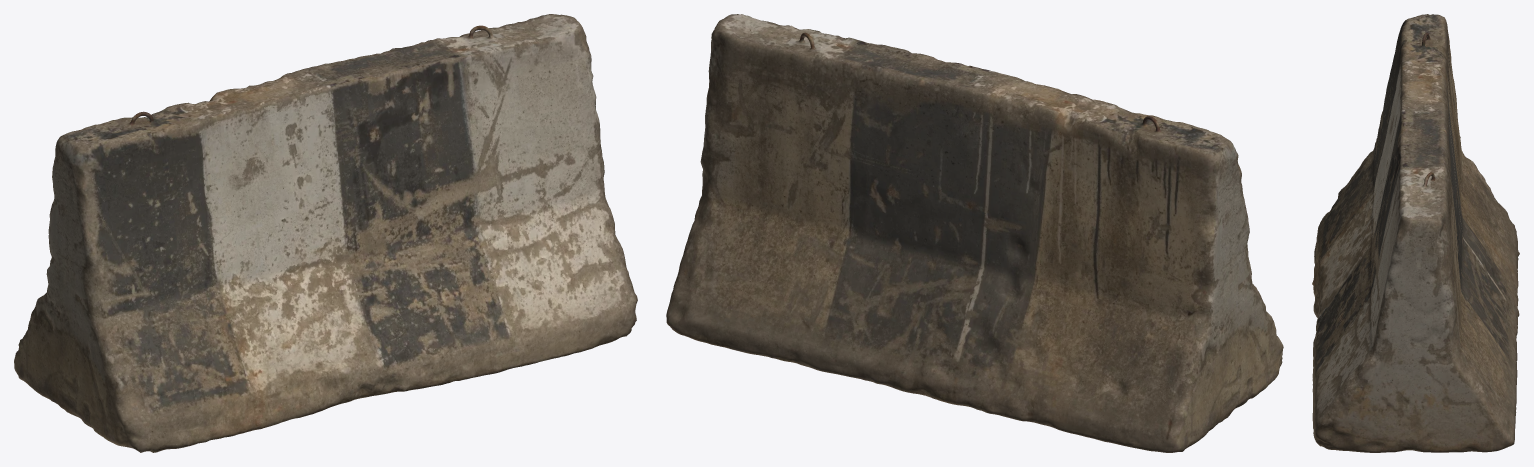
The model's file is concrete_road_barrier.glb.
The picture shows the model from 3 angles, left to right: view 1: azimuth 30°, elevation 25°; view 2: azimuth 150°, elevation 25°; view 3: azimuth 270°, elevation 25°; orthographic projection. The views are drawn at different scales.
Visible parts, largest first — view 1: concrete_road_barrier; view 2: concrete_road_barrier; view 3: concrete_road_barrier.
Part boxes in pixels (x1,y1,x2,y2): concrete_road_barrier: [14, 14, 637, 452]; concrete_road_barrier: [666, 14, 1283, 452]; concrete_road_barrier: [1312, 14, 1519, 452].
Bounding box in the file's own units: 1.55 × 0.8311 × 0.6388.
Materials: 1 (1 with a texture image).
